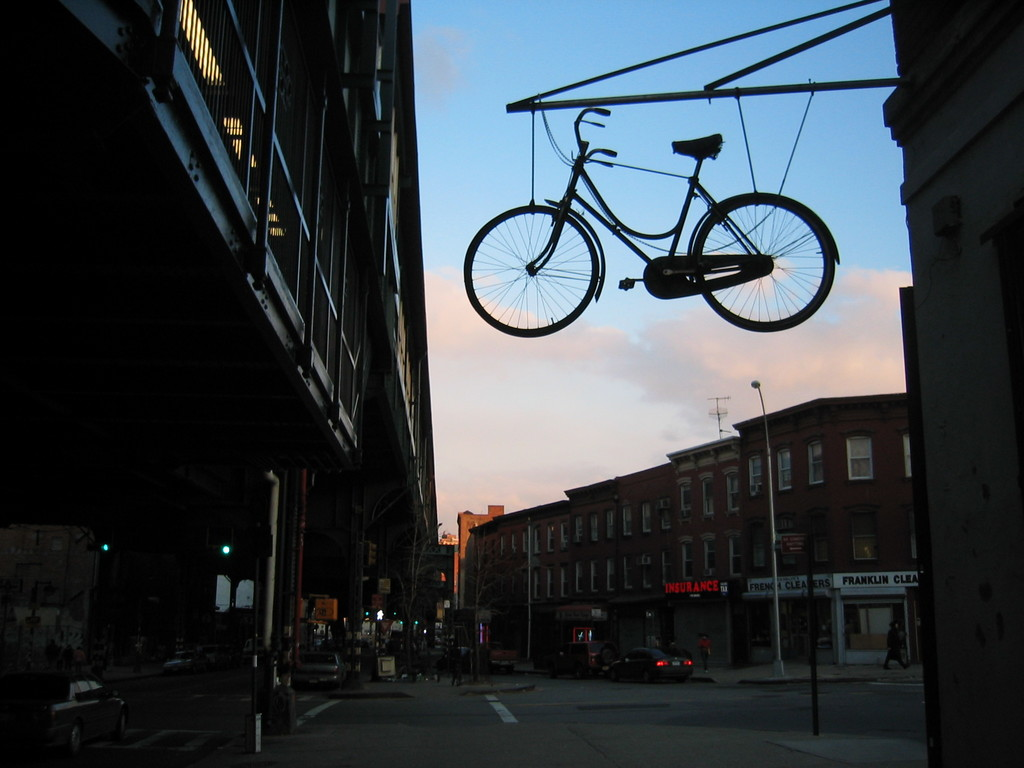Bike: (475, 115, 834, 335)
